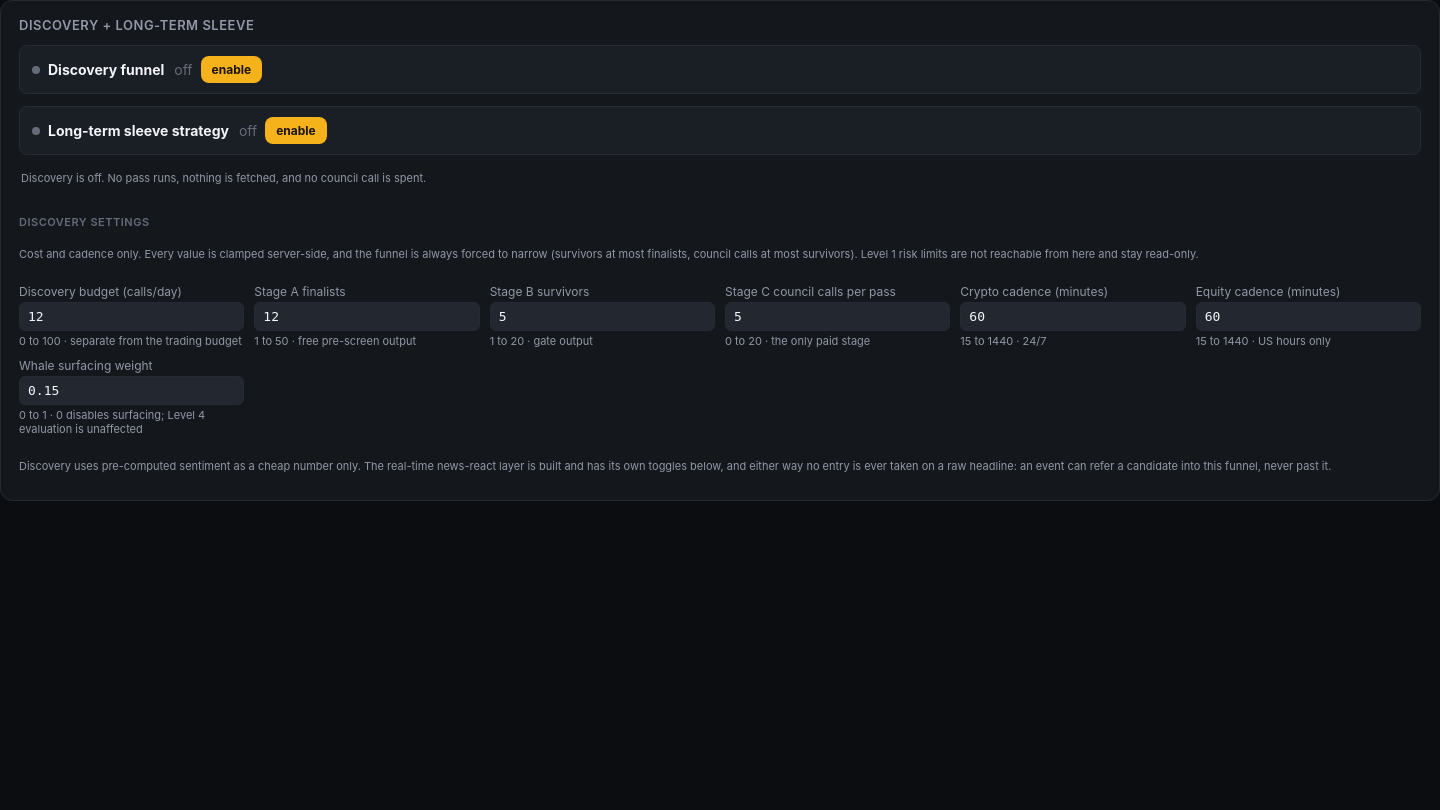
it: enable toggles ask before they spend › cancel disarms without firing
This screenshot has width=1440, height=810.
What coordinates should you click on to do the following:
click the button "enable" in the row of "Discovery funnel"
I would click on:
 (231, 70)
Its box is [200,56,262,83].
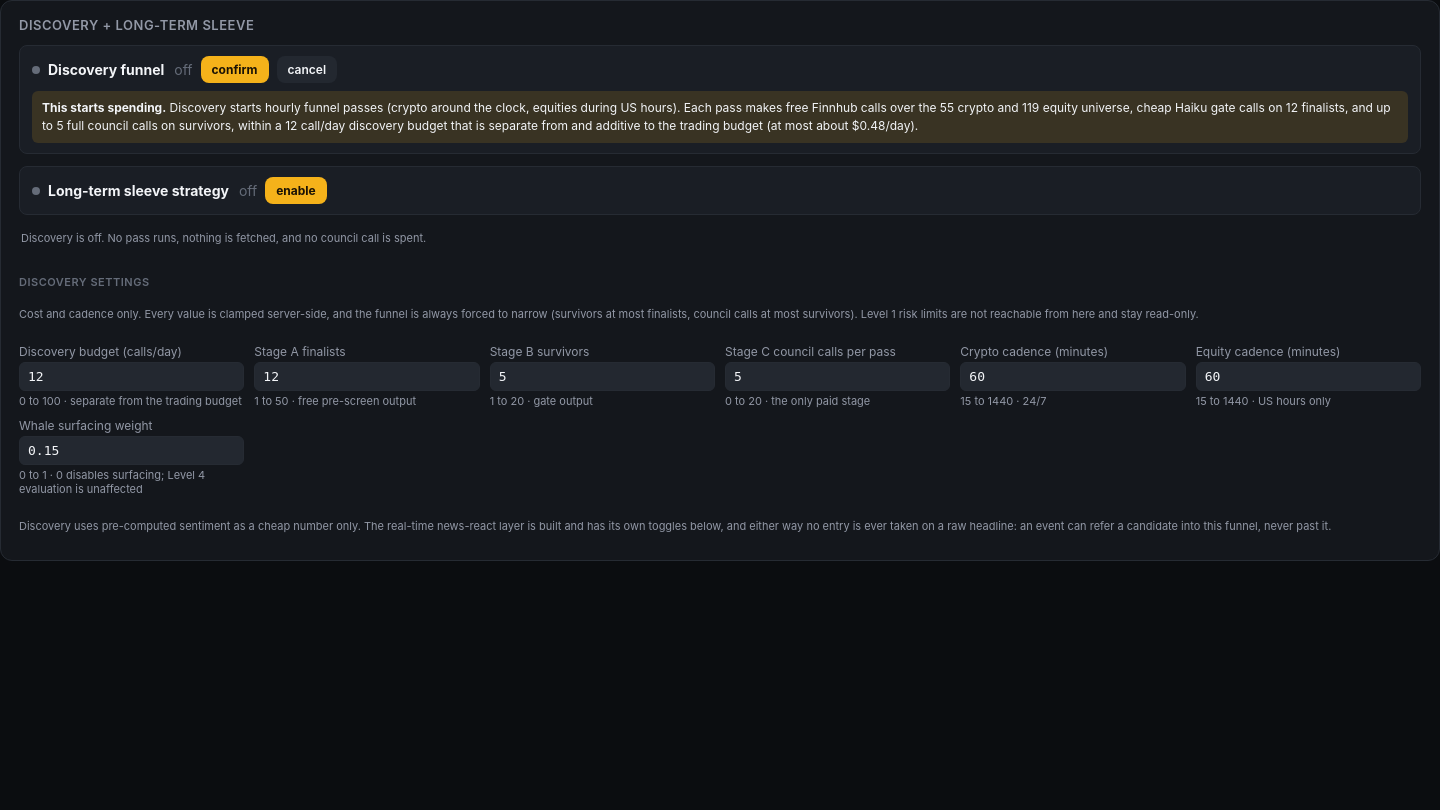
What coordinates should you click on to do the following:
click the button "cancel"
I would click on:
 (307, 70)
Its box is [276,56,337,83].
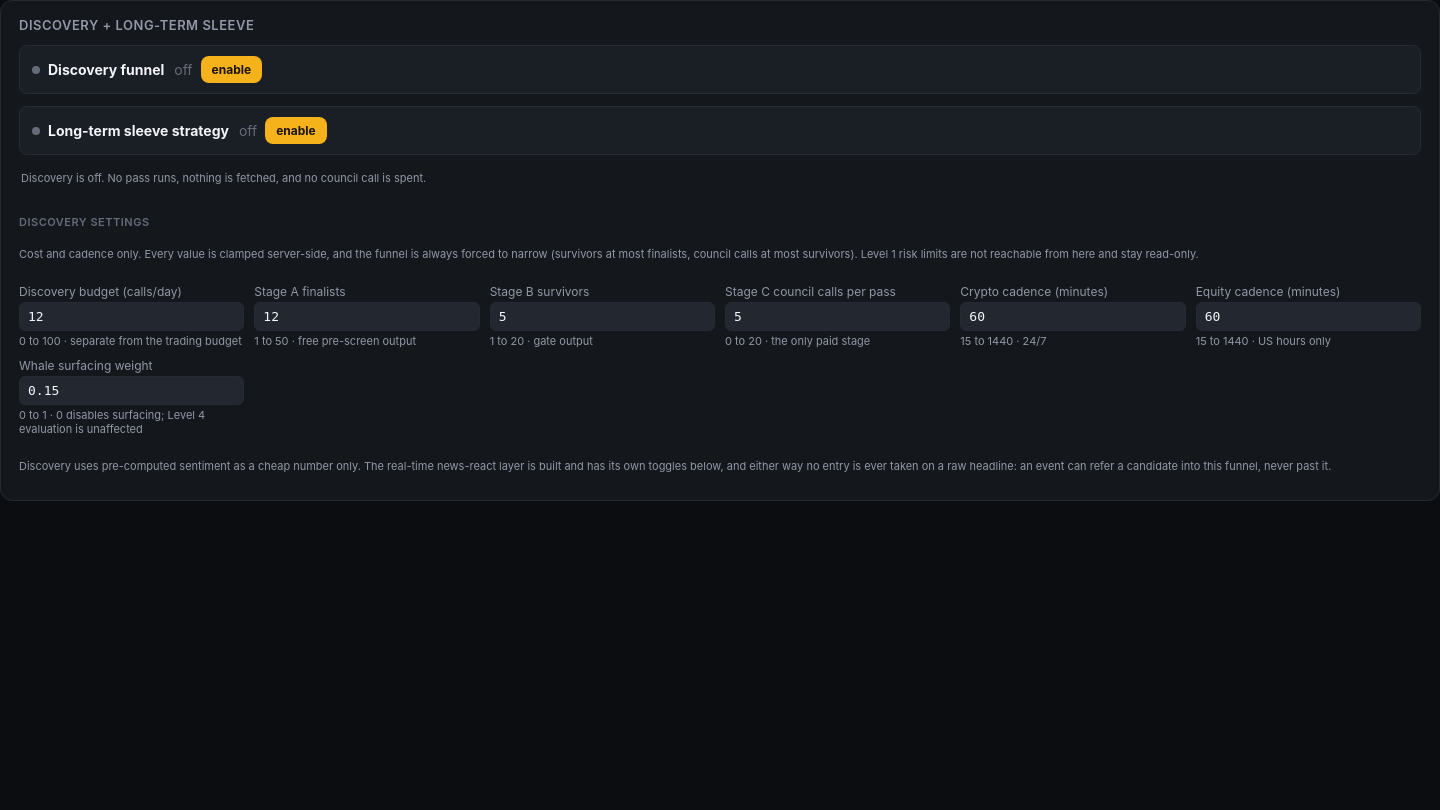
Expected: the element with test id "toggle-discovery-confirm" is gone
